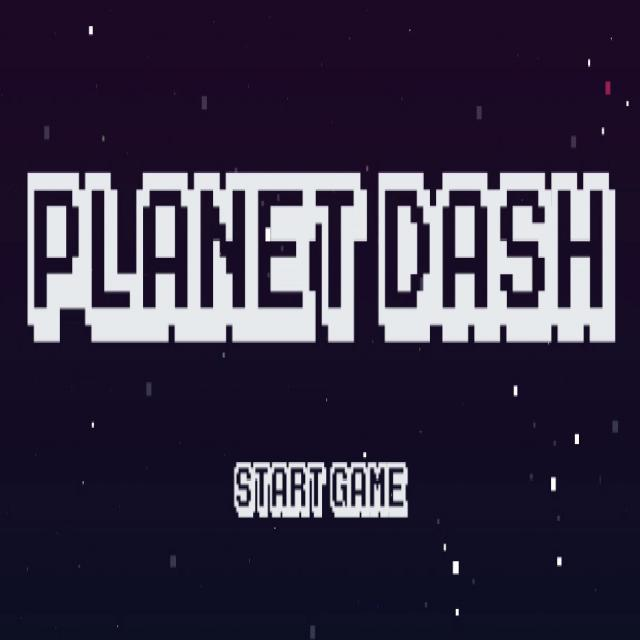Start-button: (228, 444, 413, 532)
